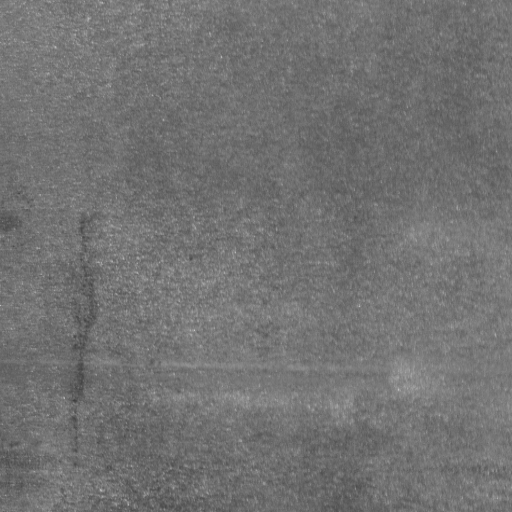hengxianghuashang: (65, 211, 99, 467)
